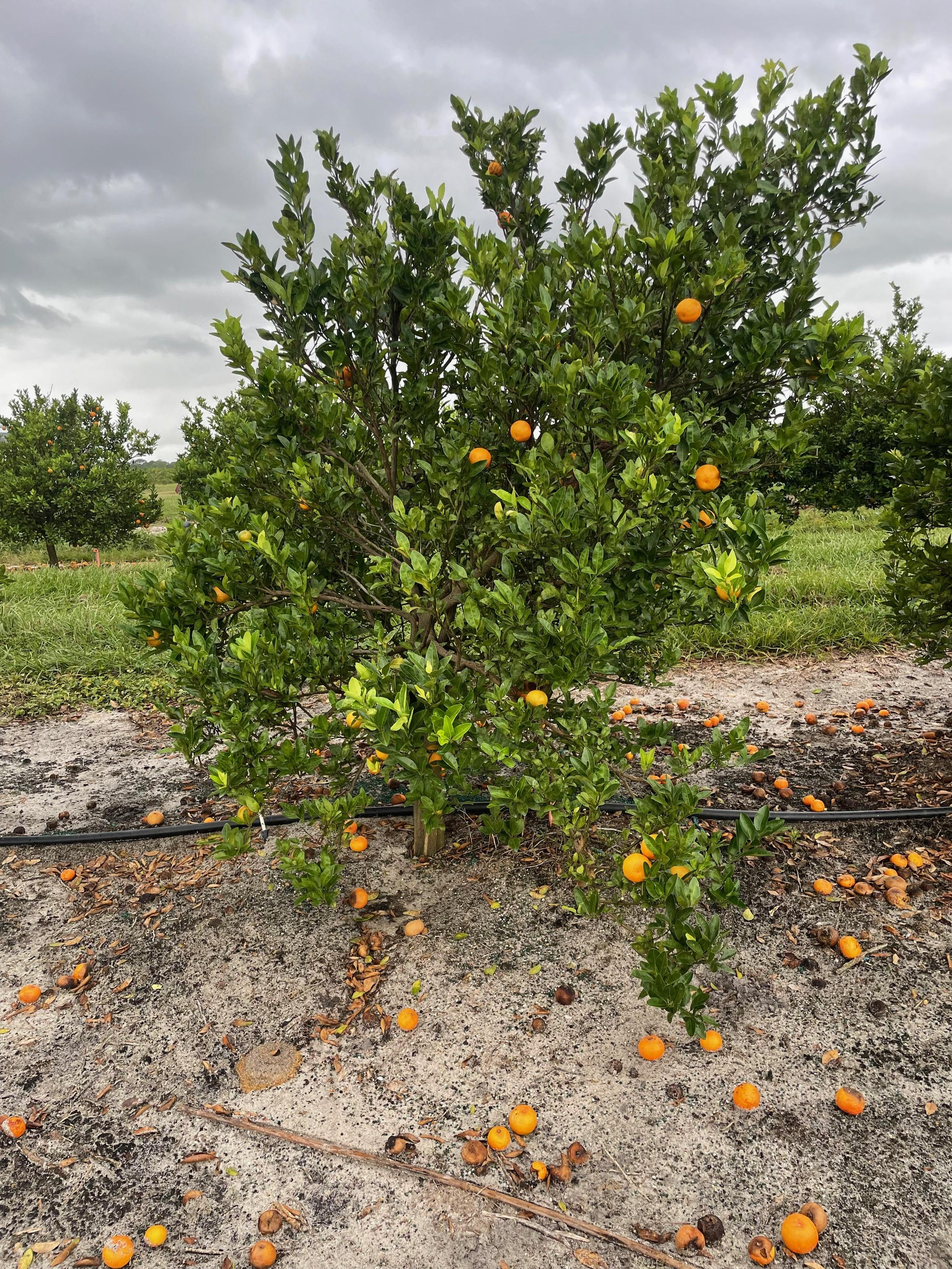fruit_on_ground: (692, 461, 723, 493), (673, 295, 705, 326), (639, 831, 670, 862), (329, 359, 359, 390), (714, 574, 746, 603), (797, 353, 827, 382), (621, 851, 650, 881), (466, 444, 494, 471), (693, 505, 719, 530), (508, 418, 534, 443), (667, 861, 693, 883), (209, 582, 233, 605), (525, 689, 549, 711), (671, 518, 694, 540), (344, 708, 366, 730), (424, 748, 447, 769), (494, 208, 517, 229), (296, 596, 319, 616), (485, 159, 505, 179), (144, 629, 165, 648), (373, 743, 393, 762), (297, 494, 317, 511), (236, 528, 253, 544), (88, 409, 98, 419), (93, 404, 102, 412), (92, 419, 100, 427), (46, 438, 54, 446), (135, 517, 142, 525), (47, 467, 54, 475), (56, 424, 63, 432), (79, 463, 85, 471), (144, 523, 150, 529)
fruit_on_tree: (780, 1210, 819, 1254), (100, 1234, 135, 1267), (745, 1232, 777, 1266), (798, 1199, 828, 1232), (674, 1223, 707, 1253), (247, 1237, 278, 1268), (508, 1103, 538, 1135), (836, 1085, 867, 1115), (636, 1033, 666, 1063), (732, 1081, 761, 1111), (696, 1211, 724, 1242), (1, 1113, 28, 1141), (459, 1139, 488, 1165), (256, 1208, 284, 1234), (698, 1028, 725, 1054), (486, 1123, 511, 1150), (143, 1222, 169, 1246), (396, 1005, 420, 1031), (566, 1141, 593, 1164), (839, 935, 863, 960), (346, 886, 370, 910), (553, 983, 578, 1006), (17, 982, 42, 1005), (234, 803, 259, 825), (548, 1162, 572, 1184), (815, 926, 840, 947), (403, 917, 428, 937), (71, 960, 92, 981), (528, 1159, 549, 1179), (884, 874, 907, 892), (835, 870, 856, 889), (812, 876, 833, 895), (348, 834, 369, 853), (144, 810, 166, 827), (366, 932, 384, 951), (340, 816, 359, 834), (54, 973, 75, 989), (907, 849, 925, 867), (889, 851, 908, 868), (139, 890, 160, 905), (58, 866, 77, 882), (855, 882, 875, 897), (809, 799, 828, 814), (742, 741, 760, 756), (750, 768, 768, 783), (389, 791, 407, 806), (644, 773, 663, 787), (772, 775, 789, 790), (755, 698, 772, 713), (366, 762, 382, 777), (355, 943, 370, 958), (676, 695, 691, 710), (777, 785, 793, 799), (385, 776, 401, 790), (800, 792, 816, 806), (751, 786, 768, 799), (658, 772, 675, 785), (921, 727, 937, 740), (823, 723, 838, 736), (804, 711, 818, 724), (883, 866, 898, 878), (45, 818, 59, 830), (202, 814, 216, 826), (851, 722, 865, 734), (623, 750, 636, 762), (662, 701, 675, 713), (877, 706, 890, 718), (14, 825, 28, 836), (611, 710, 623, 722), (708, 715, 720, 727), (712, 711, 725, 722), (862, 697, 875, 708), (620, 704, 633, 715), (855, 700, 869, 710), (676, 741, 688, 752), (793, 697, 805, 707), (701, 719, 713, 729), (615, 709, 627, 719), (629, 696, 640, 706)
